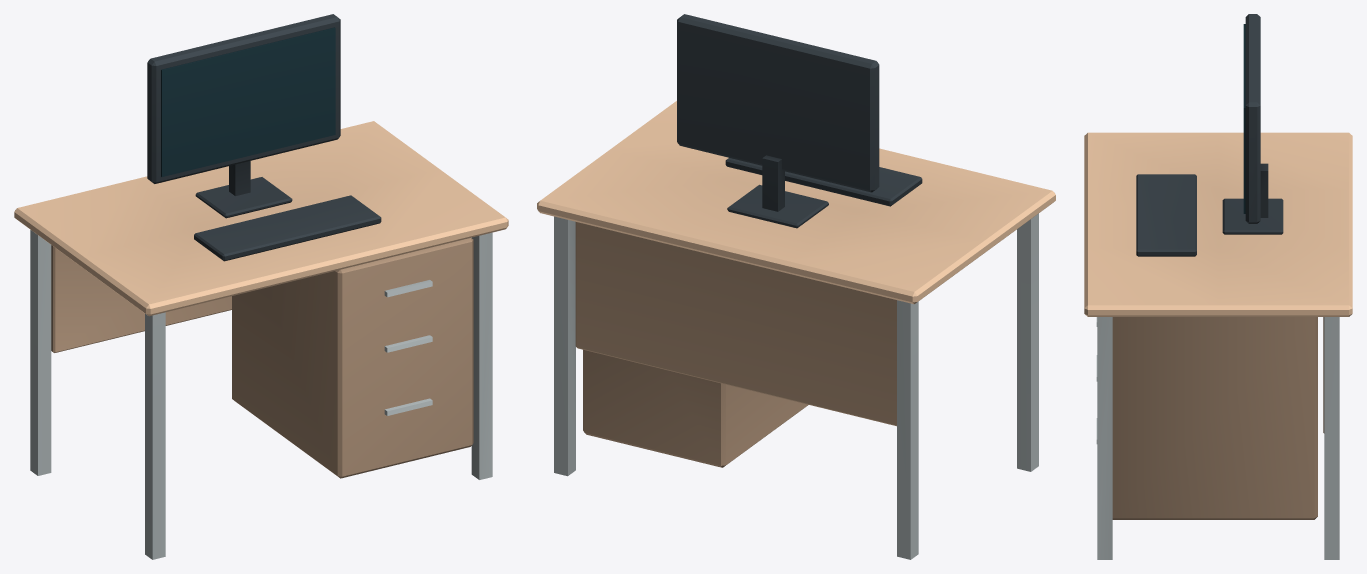
File: desk.glb
3 renders of one model, left to right at view 1: azimuth 30°, elevation 25°; view 2: azimuth 150°, elevation 25°; view 3: azimuth 270°, elevation 25°, orthographic. The views are drawn at different scales.
Visible parts, largest first — view 1: drawers, top, screen, legs, monitor, panel, keyboard, pulls; view 2: top, panel, monitor, legs, drawers, keyboard; view 3: drawers, top, legs, monitor, keyboard, screen.
Part boxes in pixels (x1,y1,x2,y2): drawers: (232,238,473,478); top: (14,121,508,316); screen: (161,27,335,176); legs: (30,230,492,559); monitor: (147,14,340,218); panel: (51,245,231,352); keyboard: (194,195,381,261); pulls: (384,280,432,415); top: (537,101,1055,304); panel: (575,222,896,426); monitor: (677,14,879,228); legs: (554,213,1038,559); drawers: (583,350,808,467); keyboard: (725,158,922,206); drawers: (1112,317,1317,519); top: (1084,132,1352,316); legs: (1097,317,1339,559); monitor: (1222,14,1283,234); keyboard: (1136,174,1196,256); screen: (1243,24,1245,213).
Bounding box in the file's own units: 0.96 × 1.07 × 0.62.
